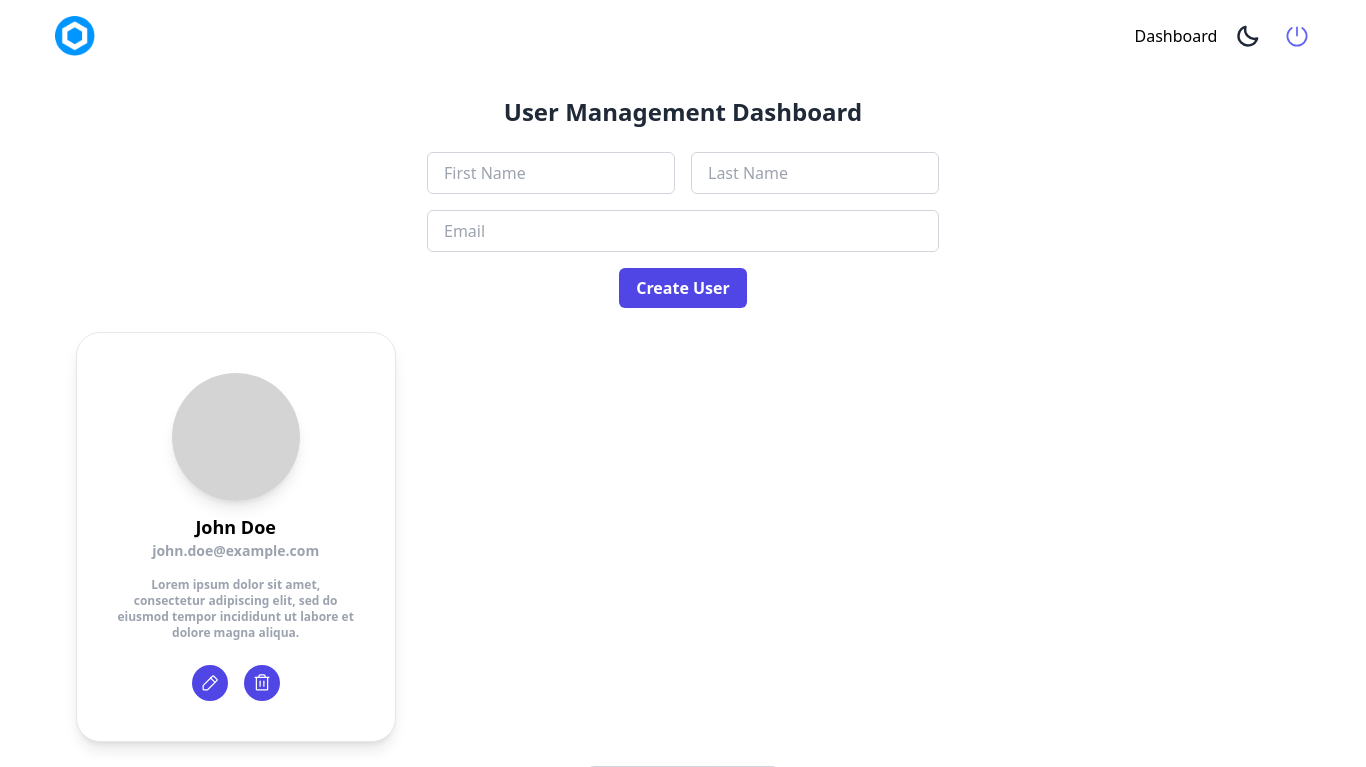
Scenario: Dashboard Page › should delete a user and remove it from the list
This screenshot has width=1366, height=767.
Click the 5th button. click: [262, 683]
box: [244, 665, 280, 701]
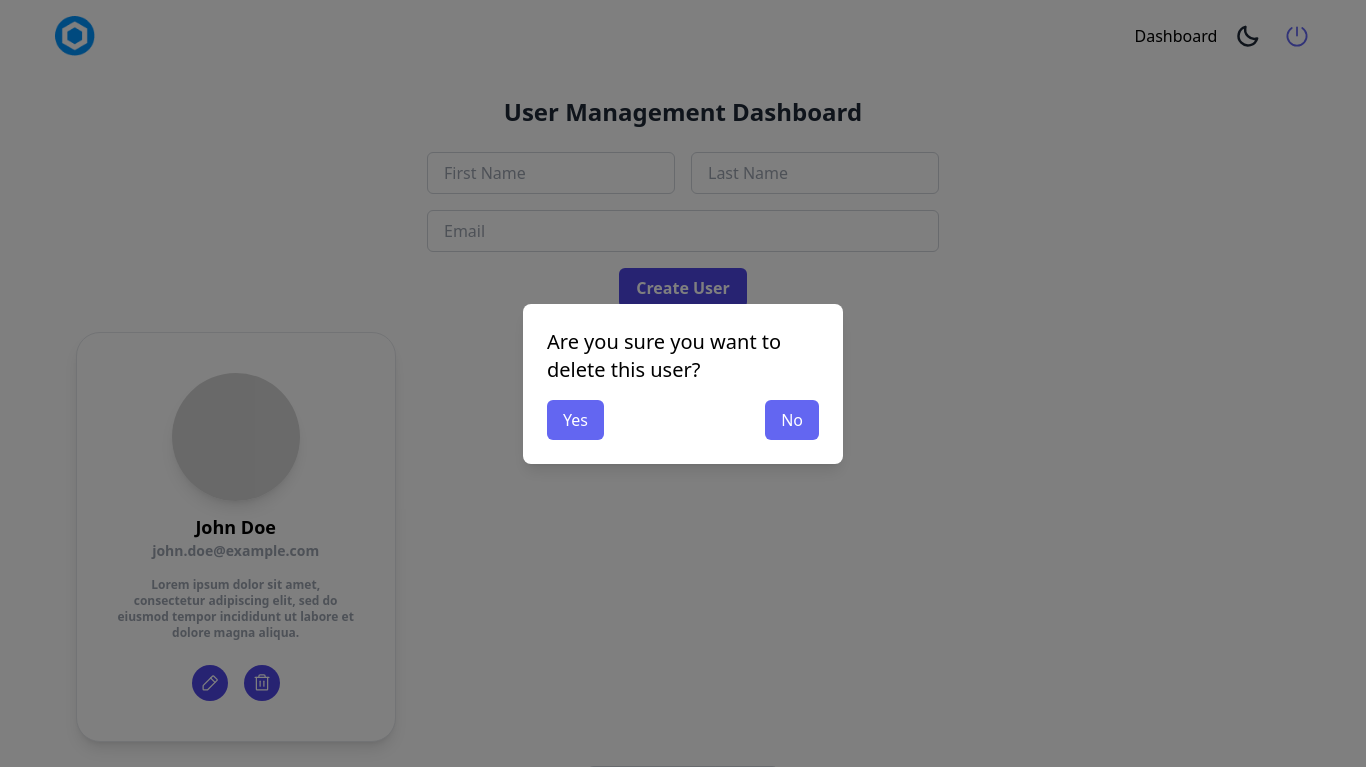
Expected: the heading "Are you sure you want to delete this user?" is shown, [547, 328, 819, 384]
Click the button "Yes". click: [576, 420]
box: [547, 400, 604, 440]
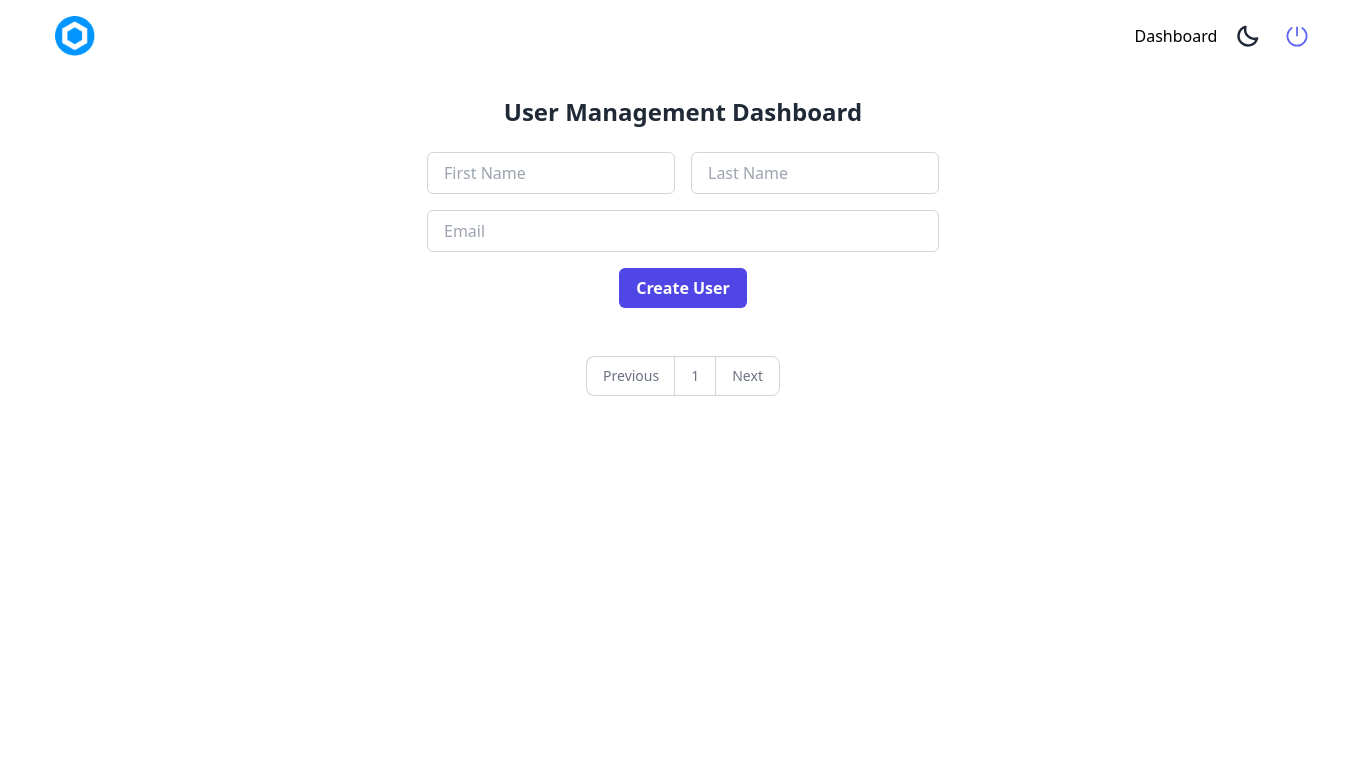
Expected: the heading "John Doe" is gone
